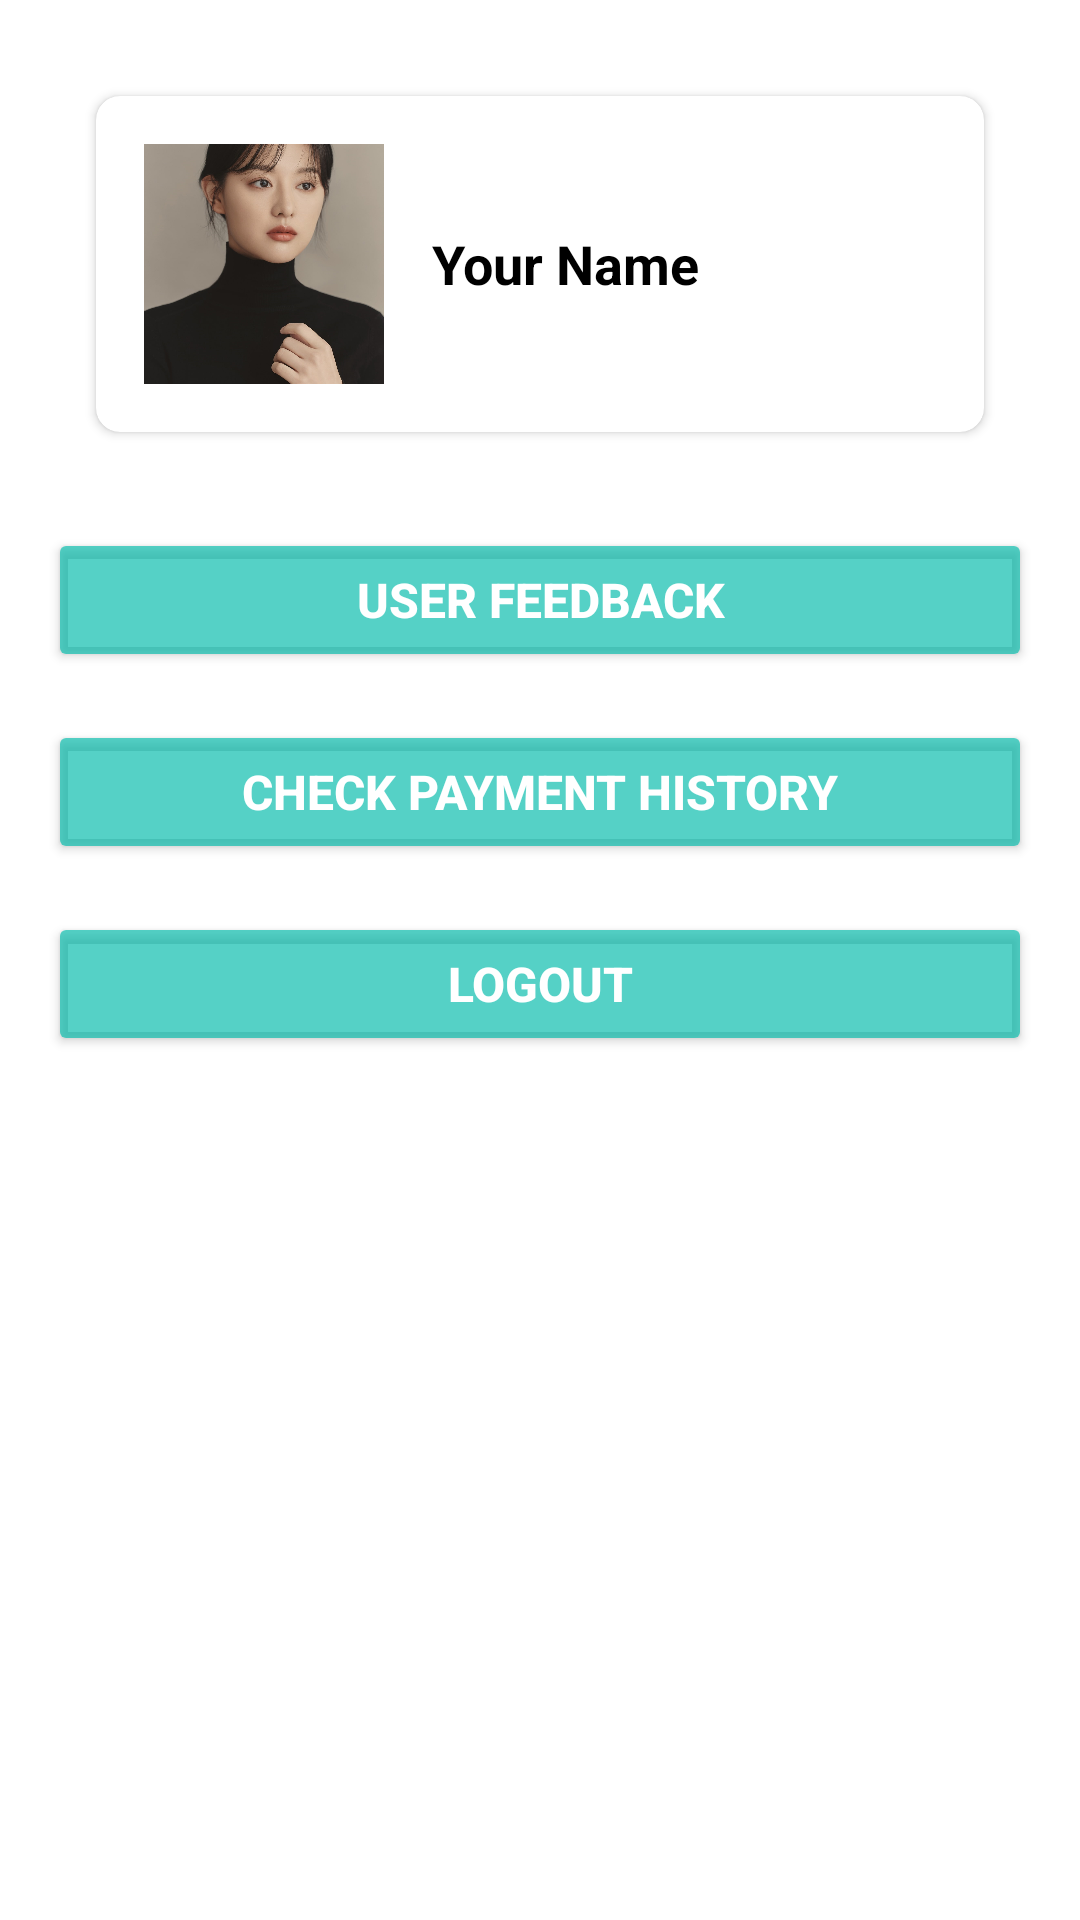

Where to tap for icons on this 1080*1920 app screen, as (x=x, y=y):
Profile Picture: (x=264, y=264)
